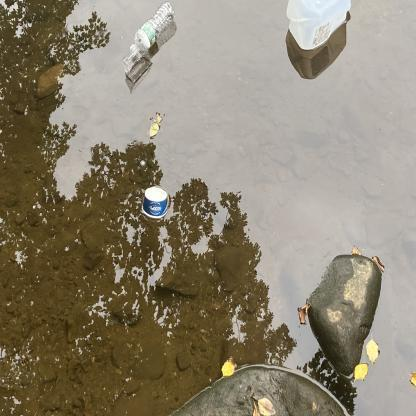trash: (279, 0, 354, 50), (127, 0, 177, 59), (142, 182, 170, 224)
